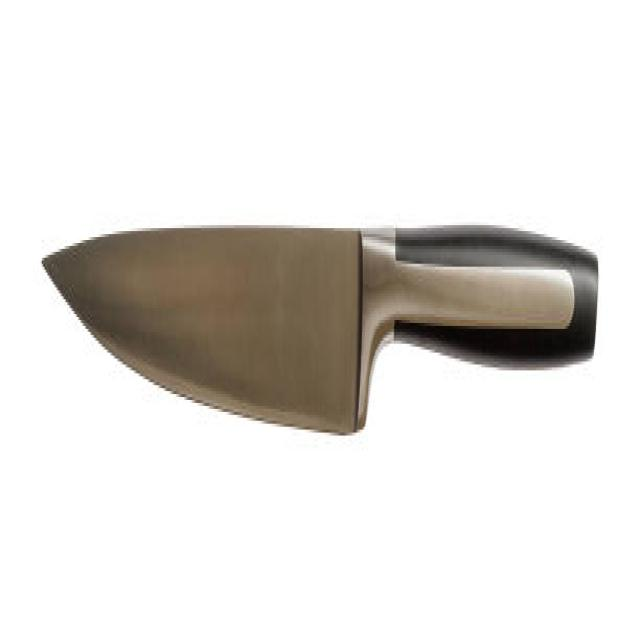knife: (37, 214, 603, 460)
